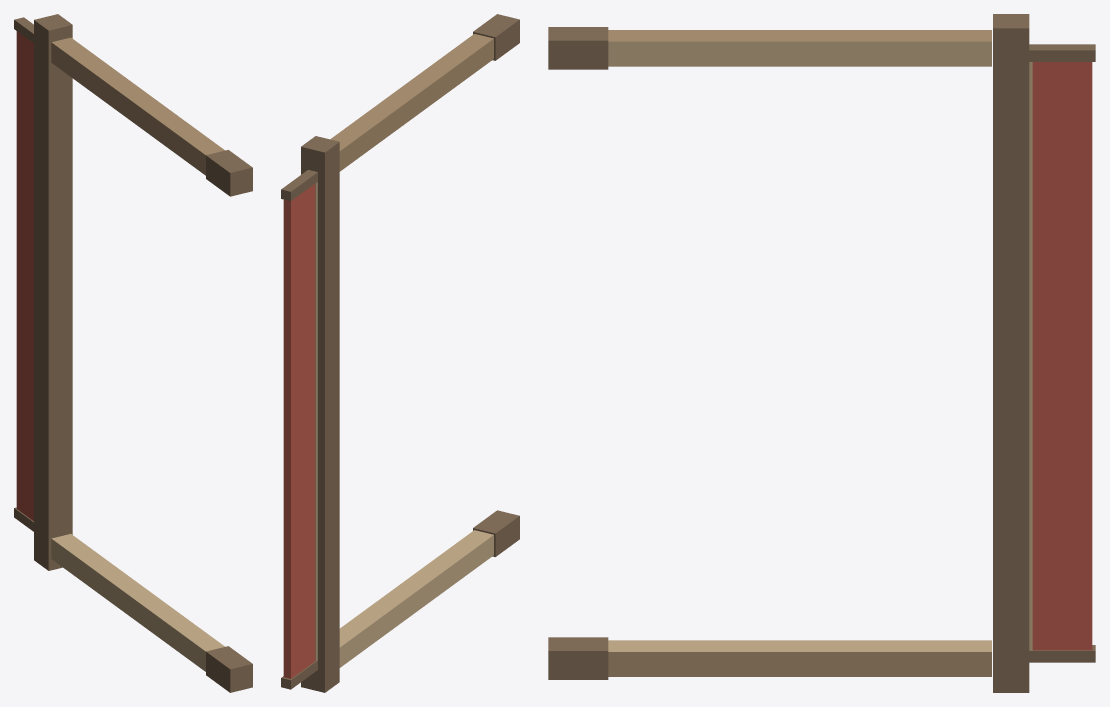
Rendered from showground_arch.glb.
3 views of the same model, side by side, from view 1: azimuth 30°, elevation 25°; view 2: azimuth 150°, elevation 25°; view 3: azimuth 270°, elevation 25° (orthographic). The views are drawn at different scales.
Parts seen in each view (by area): view 1: showground_arch; view 2: showground_arch; view 3: showground_arch.
Part boxes in pixels (box(x1,y1,x2,y2)): showground_arch: box(14, 14, 252, 692); showground_arch: box(281, 14, 519, 692); showground_arch: box(548, 14, 1095, 692).
Size of the model in its own units: 0.32 by 6.86 by 5.12.
